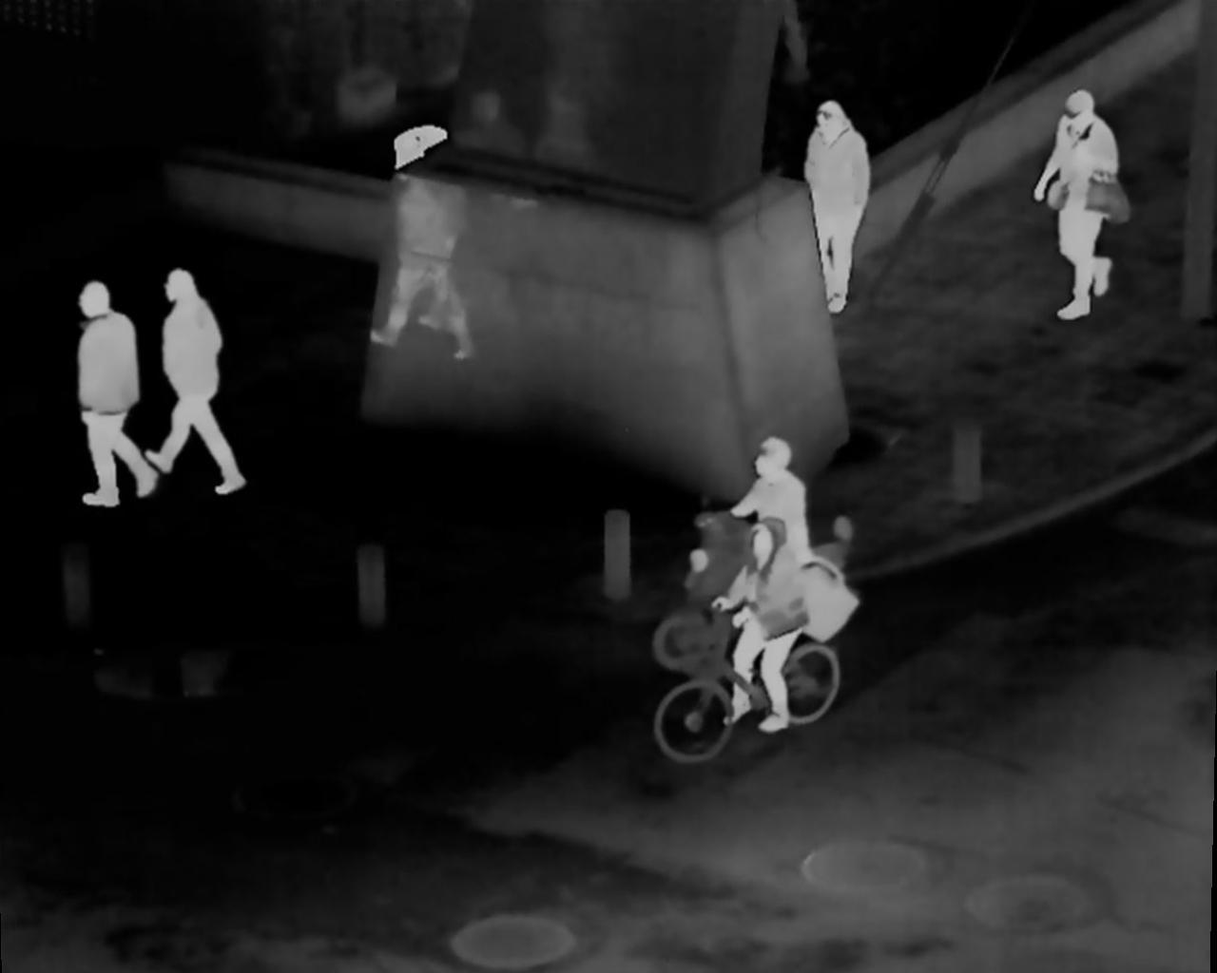person: (156, 271, 250, 499), (739, 440, 837, 653), (63, 281, 150, 505), (1046, 80, 1125, 317), (723, 526, 812, 729), (797, 100, 871, 309)
